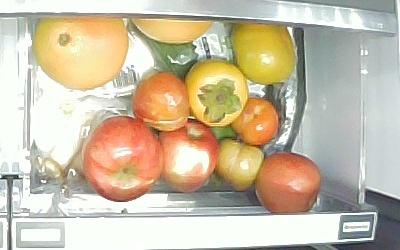apple: (80, 115, 162, 203), (156, 117, 219, 194), (256, 151, 322, 216)
grapefruit: (33, 16, 129, 91), (130, 17, 216, 46)
persimmon: (230, 20, 298, 85), (186, 60, 249, 127)
prune: (132, 71, 191, 132), (215, 137, 264, 192), (230, 96, 280, 146)
